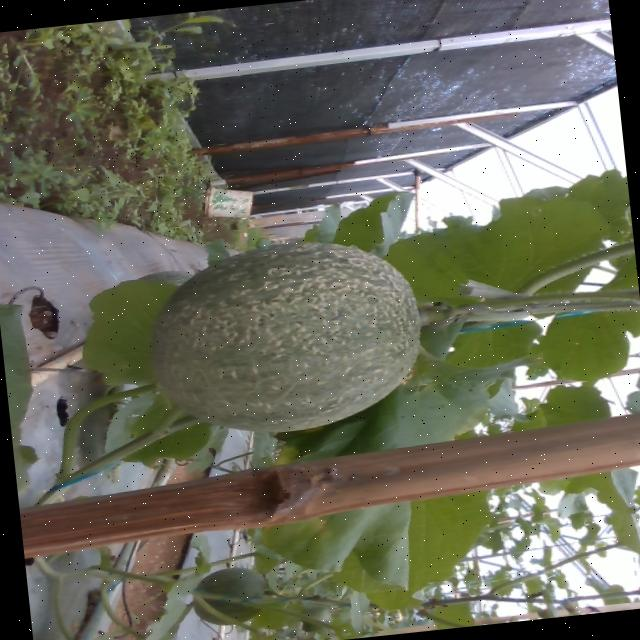melon: (151, 243, 420, 432)
